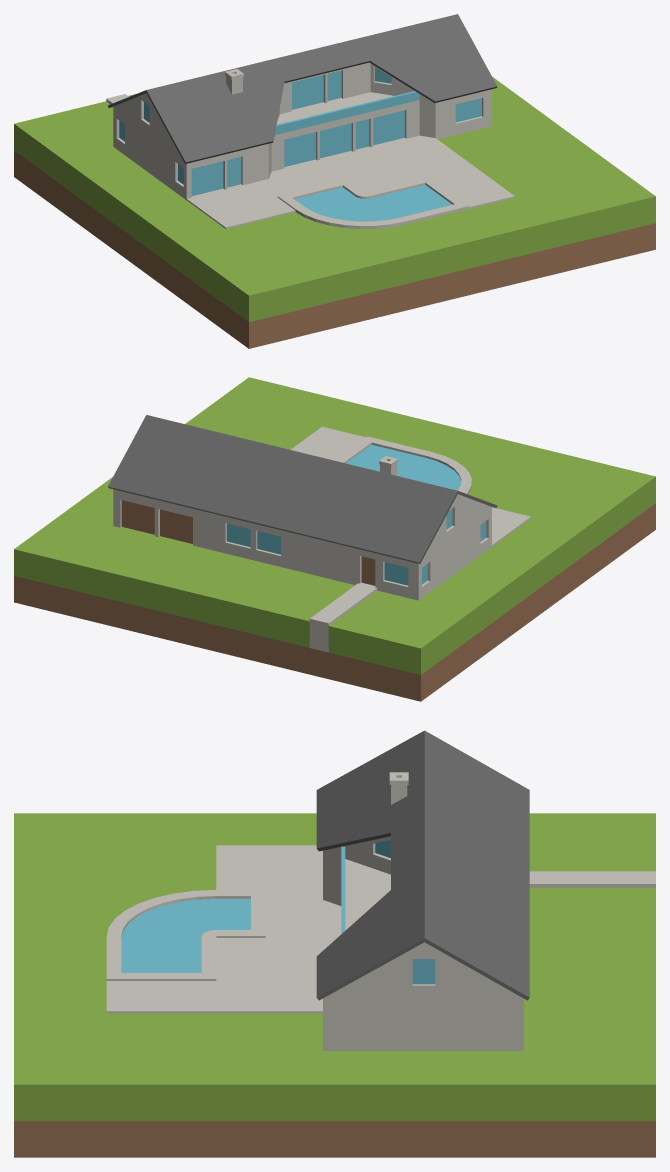
Rendered from house-luxurious.glb.
The picture shows the model from 3 angles, top to bottom: view 1: azimuth 30°, elevation 25°; view 2: azimuth 150°, elevation 25°; view 3: azimuth 270°, elevation 25°; orthographic projection. The views are drawn at different scales.
Visible parts, largest first — view 1: house-luxurious_Cube.010; view 2: house-luxurious_Cube.010; view 3: house-luxurious_Cube.010.
Boxes of the visible parts, x1,y1,x2,y2 form: house-luxurious_Cube.010: (14,14,655,348); house-luxurious_Cube.010: (14,377,655,701); house-luxurious_Cube.010: (14,730,655,1157).
Bounding box in the file's own units: 16 × 5.34 × 16.
Materials: 1 (1 with a texture image).
